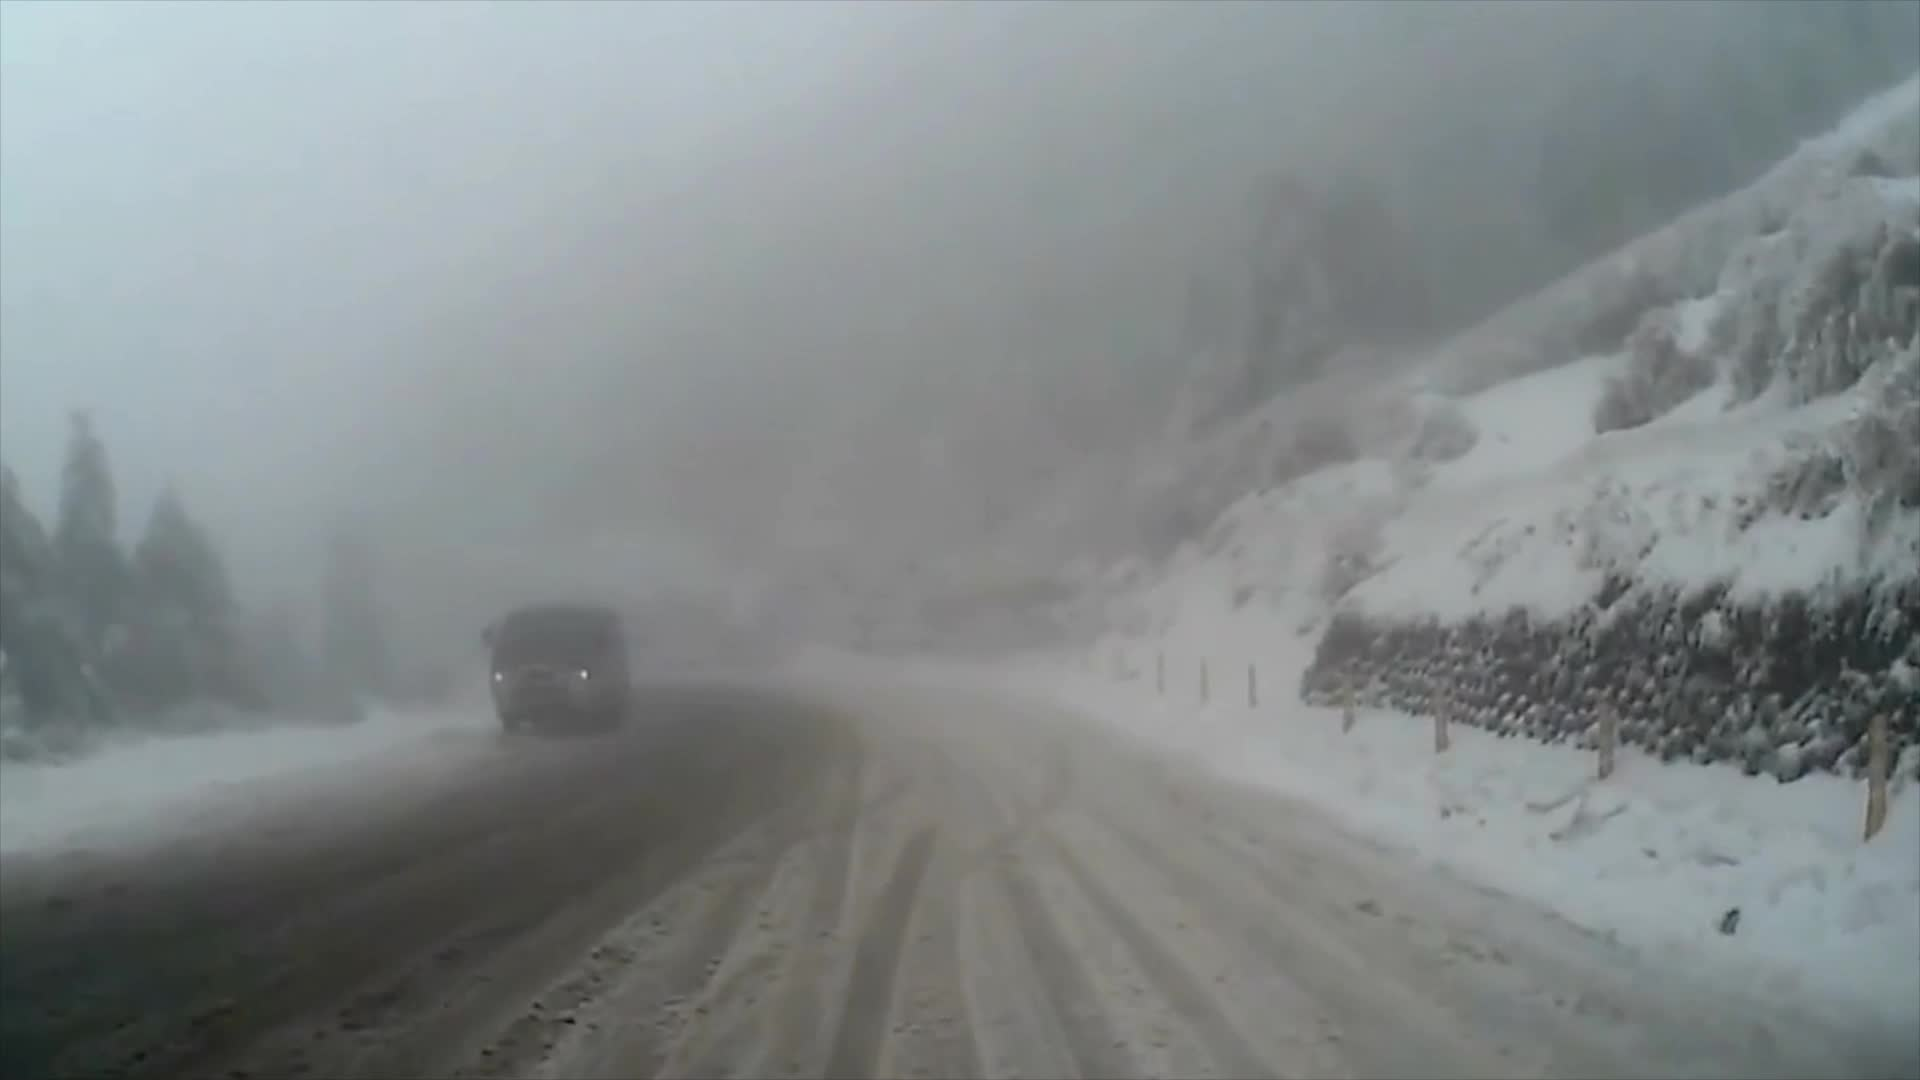vehicle: (477, 604, 625, 735)
